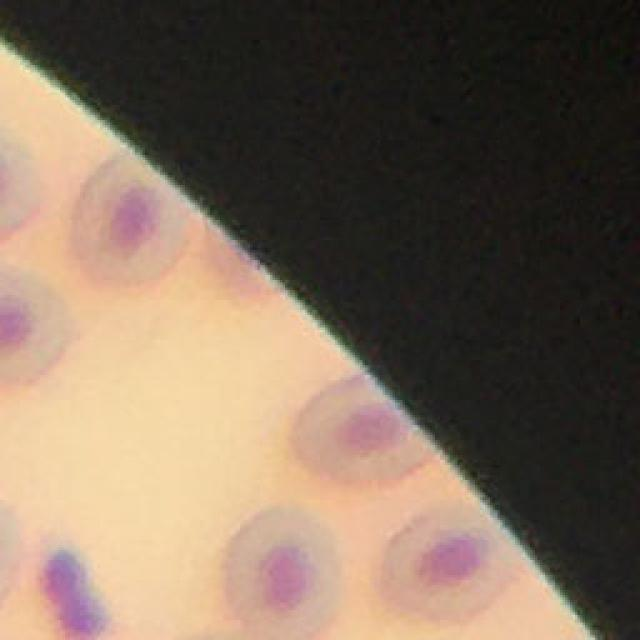RBC: (372, 499, 528, 627), (72, 152, 188, 286), (292, 375, 428, 486), (225, 510, 340, 640), (0, 265, 70, 384)
WBC: (45, 552, 108, 640)
